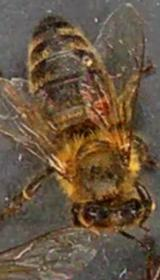varroa_mite: (86, 96, 121, 122)
